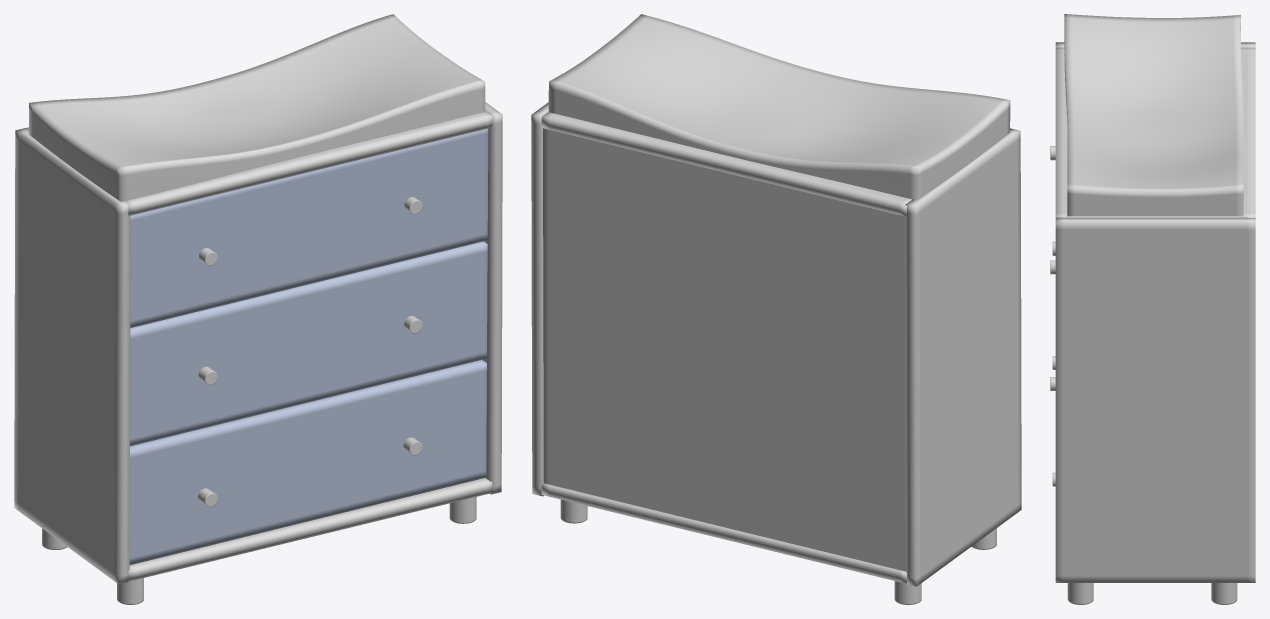
Rendered from ChangingTable.fbx.
3 views of the same model, side by side, from view 1: azimuth 30°, elevation 25°; view 2: azimuth 150°, elevation 25°; view 3: azimuth 270°, elevation 25° (orthographic). The views are drawn at different scales.
Visible parts, largest first — view 1: RightBase, Top, Drawer3, Drawer2, Drawer1, TopBase, BottomBase, LeftBase, Leg4; view 2: Back, RightBase, Top, TopBase, LeftBase, BottomBase; view 3: LeftBase, Top, TopBase, Leg4, Leg3.
Boxes of the visible parts, left/top/right/bottom form: RightBase: left=14, top=128, right=130, bottom=584; Top: left=29, top=14, right=485, bottom=201; Drawer3: left=129, top=360, right=486, bottom=565; Drawer2: left=130, top=241, right=487, bottom=446; Drawer1: left=130, top=128, right=488, bottom=327; TopBase: left=27, top=111, right=492, bottom=216; BottomBase: left=128, top=478, right=492, bottom=581; LeftBase: left=482, top=102, right=502, bottom=494; Leg4: left=449, top=497, right=476, bottom=523; Back: left=543, top=128, right=905, bottom=571; RightBase: left=905, top=128, right=1021, bottom=586; Top: left=548, top=14, right=1010, bottom=200; TopBase: left=541, top=112, right=911, bottom=216; LeftBase: left=531, top=102, right=548, bottom=496; BottomBase: left=541, top=483, right=906, bottom=583; LeftBase: left=1055, top=217, right=1255, bottom=582; Top: left=1064, top=14, right=1243, bottom=216; TopBase: left=1055, top=47, right=1255, bottom=217; Leg4: left=1067, top=583, right=1093, bottom=604; Leg3: left=1211, top=583, right=1237, bottom=604.
Size of the model in its own units: 1.64 by 1.8 by 0.7951.
